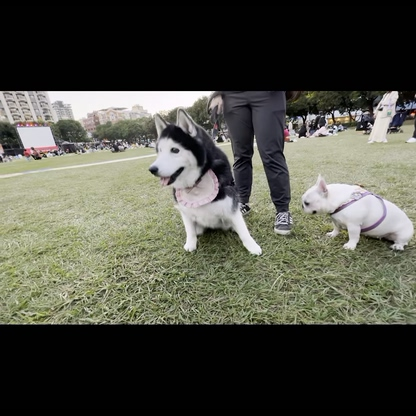husky: (142, 107, 266, 260)
